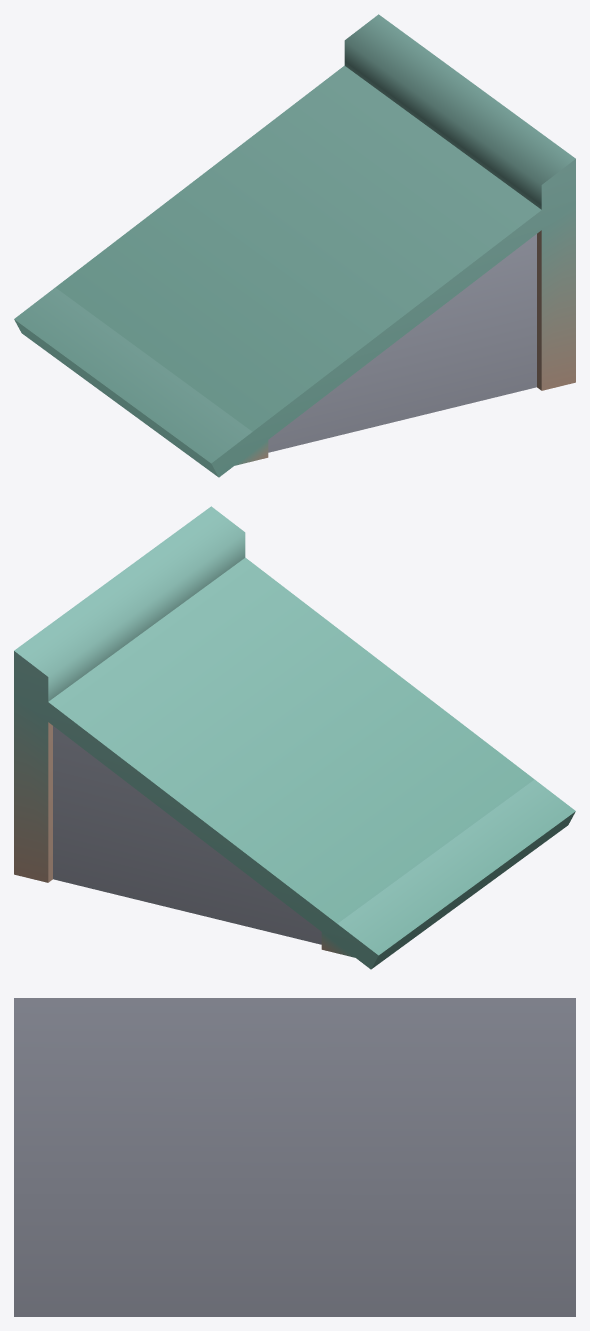
Rendered from roof.glb.
3 views of the same model, one above another, from view 1: azimuth 30°, elevation 25°; view 2: azimuth 150°, elevation 25°; view 3: azimuth 270°, elevation 25° (orthographic). The views are drawn at different scales.
Visible parts, largest first — view 1: roof; view 2: roof; view 3: roof.
Part boxes in pixels (bbox=[...]): roof: bbox=[14, 14, 575, 477]; roof: bbox=[14, 506, 575, 969]; roof: bbox=[14, 998, 575, 1316].
Size of the model in its own units: 1.07 by 0.6483 by 1.
